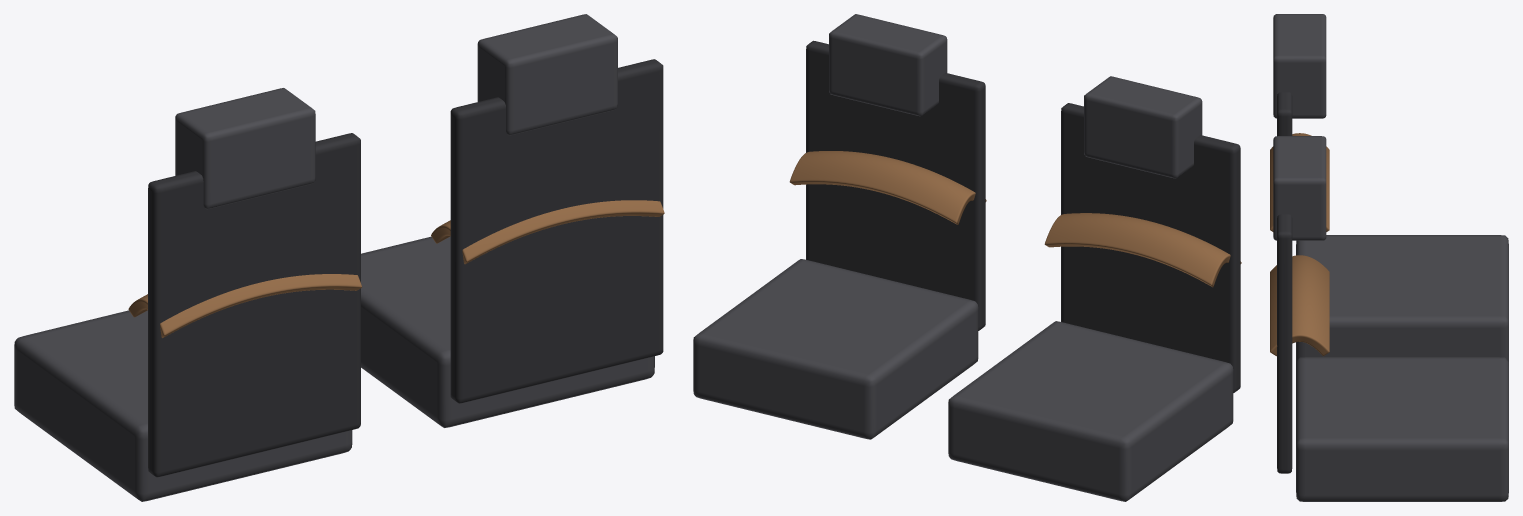
File: seats.glb
The picture shows the model from 3 angles, left to right: view 1: azimuth 30°, elevation 25°; view 2: azimuth 150°, elevation 25°; view 3: azimuth 270°, elevation 25°; orthographic projection. The views are drawn at different scales.
Visible parts, largest first — view 1: SEAT_SHELL_DRIVER, SEAT_SHELL_PASSENGER, SEAT_BASE_PASSENGER, SEAT_BASE_DRIVER, SEAT_HEADREST_PASSENGER, SEAT_HEADREST_DRIVER, SEAT_BACK_DRIVER, SEAT_BACK_PASSENGER; view 2: SEAT_BASE_DRIVER, SEAT_BASE_PASSENGER, SEAT_SHELL_PASSENGER, SEAT_SHELL_DRIVER, SEAT_HEADREST_PASSENGER, SEAT_HEADREST_DRIVER, SEAT_BACK_PASSENGER, SEAT_BACK_DRIVER; view 3: SEAT_BASE_DRIVER, SEAT_BASE_PASSENGER, SEAT_HEADREST_DRIVER, SEAT_HEADREST_PASSENGER, SEAT_SHELL_DRIVER, SEAT_BACK_DRIVER, SEAT_BACK_PASSENGER, SEAT_SHELL_PASSENGER.
Boxes of the visible parts, box(x1,y1,x2,y2) form: SEAT_SHELL_DRIVER: box(450, 59, 663, 403); SEAT_SHELL_PASSENGER: box(148, 133, 360, 477); SEAT_BASE_PASSENGER: box(14, 310, 352, 501); SEAT_BASE_DRIVER: box(361, 236, 654, 427); SEAT_HEADREST_PASSENGER: box(175, 88, 315, 209); SEAT_HEADREST_DRIVER: box(477, 14, 617, 135); SEAT_BACK_DRIVER: box(431, 200, 664, 264); SEAT_BACK_PASSENGER: box(128, 274, 361, 337); SEAT_BASE_DRIVER: box(693, 259, 978, 439); SEAT_BASE_PASSENGER: box(948, 321, 1233, 501); SEAT_SHELL_PASSENGER: box(1061, 103, 1240, 392); SEAT_SHELL_DRIVER: box(806, 40, 985, 330); SEAT_HEADREST_PASSENGER: box(1084, 76, 1202, 178); SEAT_HEADREST_DRIVER: box(829, 14, 947, 116); SEAT_BACK_PASSENGER: box(1044, 213, 1241, 287); SEAT_BACK_DRIVER: box(789, 151, 986, 224); SEAT_BASE_DRIVER: box(1296, 357, 1508, 501); SEAT_BASE_PASSENGER: box(1296, 235, 1508, 365); SEAT_HEADREST_DRIVER: box(1273, 136, 1326, 240); SEAT_HEADREST_PASSENGER: box(1273, 14, 1326, 118); SEAT_SHELL_DRIVER: box(1277, 214, 1292, 473); SEAT_BACK_DRIVER: box(1270, 255, 1329, 356); SEAT_BACK_PASSENGER: box(1270, 133, 1329, 231); SEAT_SHELL_PASSENGER: box(1277, 92, 1292, 136).
Bounding box in the file's own units: 1.3 × 0.88 × 0.6285.
